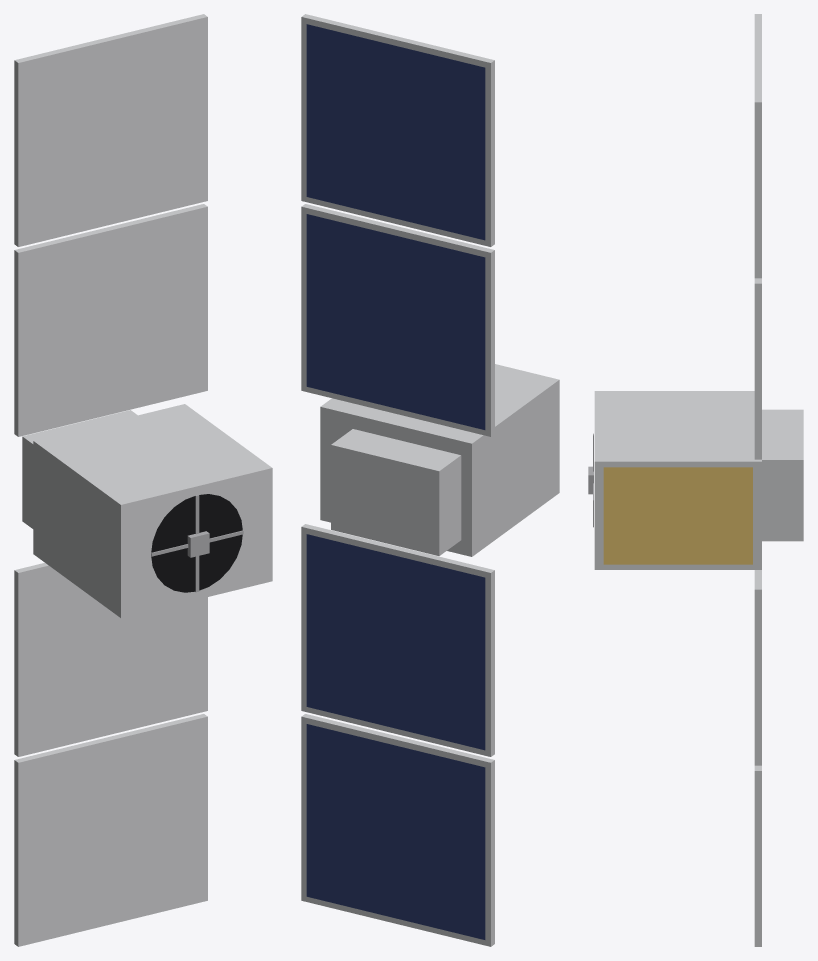
Rendered from spacecraft.glb.
The picture shows the model from 3 angles, left to right: view 1: azimuth 30°, elevation 25°; view 2: azimuth 150°, elevation 25°; view 3: azimuth 270°, elevation 25°; orthographic projection. The views are drawn at different scales.
Parts seen in each view (by area): view 1: Wing +y outer, Wing -y outer, Wing +y inner, Bus, Wing -y inner, Aperture, Deck housing; view 2: Wing +y outer cells, Wing -y outer cells, Wing +y inner cells, Wing -y inner cells, Bus, Deck housing, Wing +y inner, Wing +y outer, Wing -y inner, Wing -y outer; view 3: Bus, Front face, Deck housing, Wing +y outer, Wing -y inner, Wing +y inner, Wing -y outer.
Part boxes in pixels (bbox=[...]): Wing +y outer: bbox=[14, 14, 207, 246]; Wing -y outer: bbox=[14, 714, 207, 946]; Wing +y inner: bbox=[14, 204, 207, 436]; Bus: bbox=[33, 404, 272, 617]; Wing -y inner: bbox=[14, 563, 207, 756]; Aperture: bbox=[151, 494, 242, 592]; Deck housing: bbox=[22, 410, 137, 528]; Wing +y outer cells: bbox=[306, 24, 485, 240]; Wing -y outer cells: bbox=[306, 724, 485, 939]; Wing +y inner cells: bbox=[306, 214, 485, 429]; Wing -y inner cells: bbox=[306, 534, 485, 750]; Bus: bbox=[320, 364, 559, 556]; Deck housing: bbox=[331, 429, 461, 555]; Wing +y inner: bbox=[301, 204, 494, 436]; Wing +y outer: bbox=[301, 14, 494, 246]; Wing -y inner: bbox=[301, 524, 494, 756]; Wing -y outer: bbox=[301, 714, 494, 946]; Bus: bbox=[594, 391, 761, 569]; Front face: bbox=[603, 467, 752, 564]; Deck housing: bbox=[762, 409, 803, 541]; Wing +y outer: bbox=[754, 14, 761, 278]; Wing -y inner: bbox=[754, 570, 761, 765]; Wing +y inner: bbox=[754, 278, 761, 459]; Wing -y outer: bbox=[754, 765, 761, 946].
Bounding box in the file's own units: 0.7 × 3.12 × 0.722.
